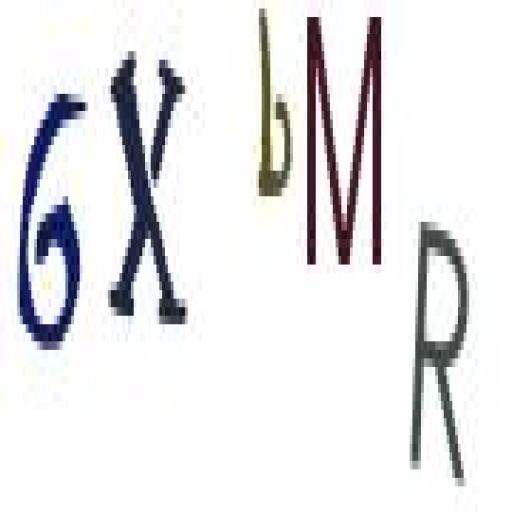6: (12, 66, 92, 370)
M: (302, 6, 388, 277)
R: (411, 211, 477, 501)
X: (103, 34, 191, 349)
b: (247, 0, 296, 222)
